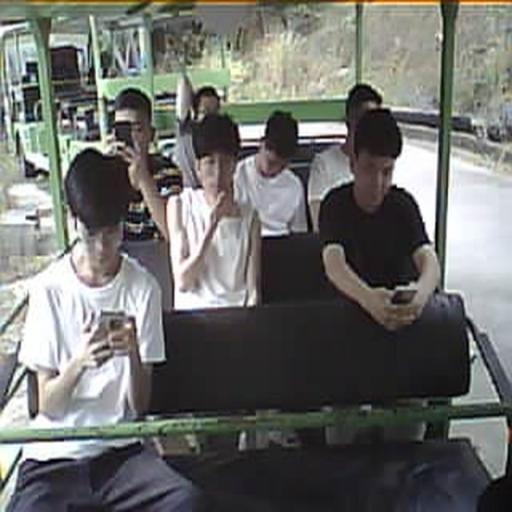persona: (5, 147, 204, 510), (318, 107, 442, 331), (165, 112, 263, 310), (96, 86, 182, 241), (306, 83, 384, 231), (232, 110, 310, 238), (174, 70, 220, 188)
